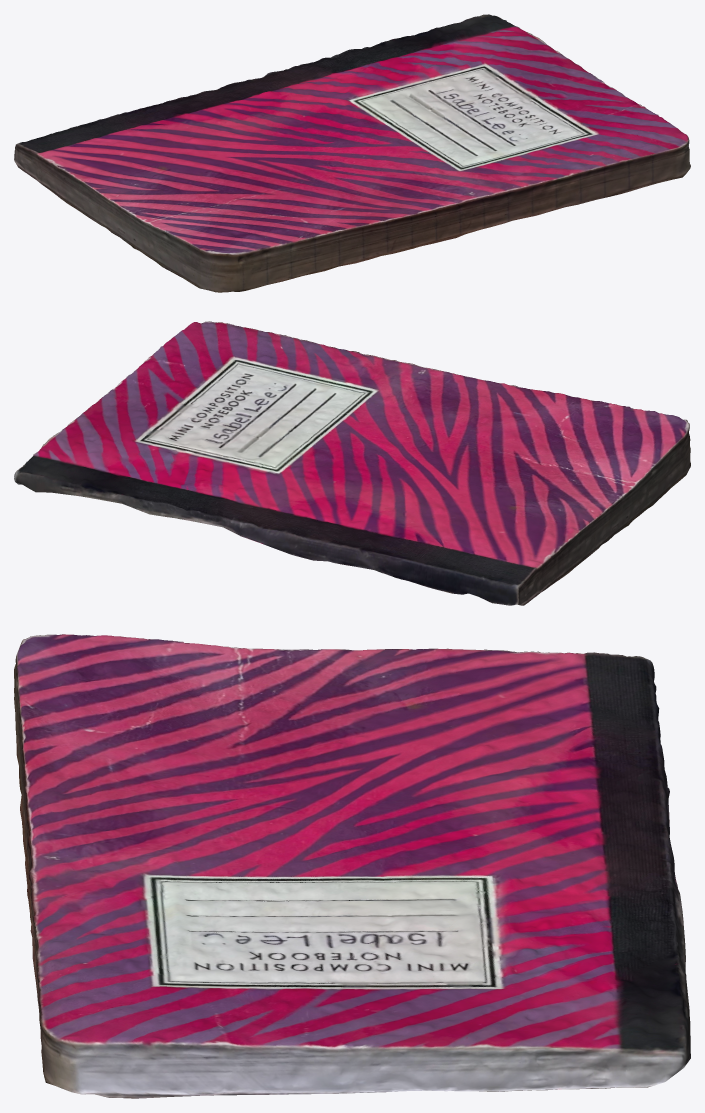
Rendered from notebook.fbx.
3 views of the same model, one above another, from view 1: azimuth 30°, elevation 25°; view 2: azimuth 150°, elevation 25°; view 3: azimuth 270°, elevation 25° (orthographic). The views are drawn at different scales.
Parts seen in each view (by area): view 1: Mesh_0; view 2: Mesh_0; view 3: Mesh_0.
Part boxes in pixels (x1,y1,x2,y2): Mesh_0: (14, 14, 690, 292); Mesh_0: (14, 321, 690, 605); Mesh_0: (14, 634, 690, 1098).
Bounding box in the file's own units: 15.36 × 1.37 × 10.76.
1 material, 1 textured.
